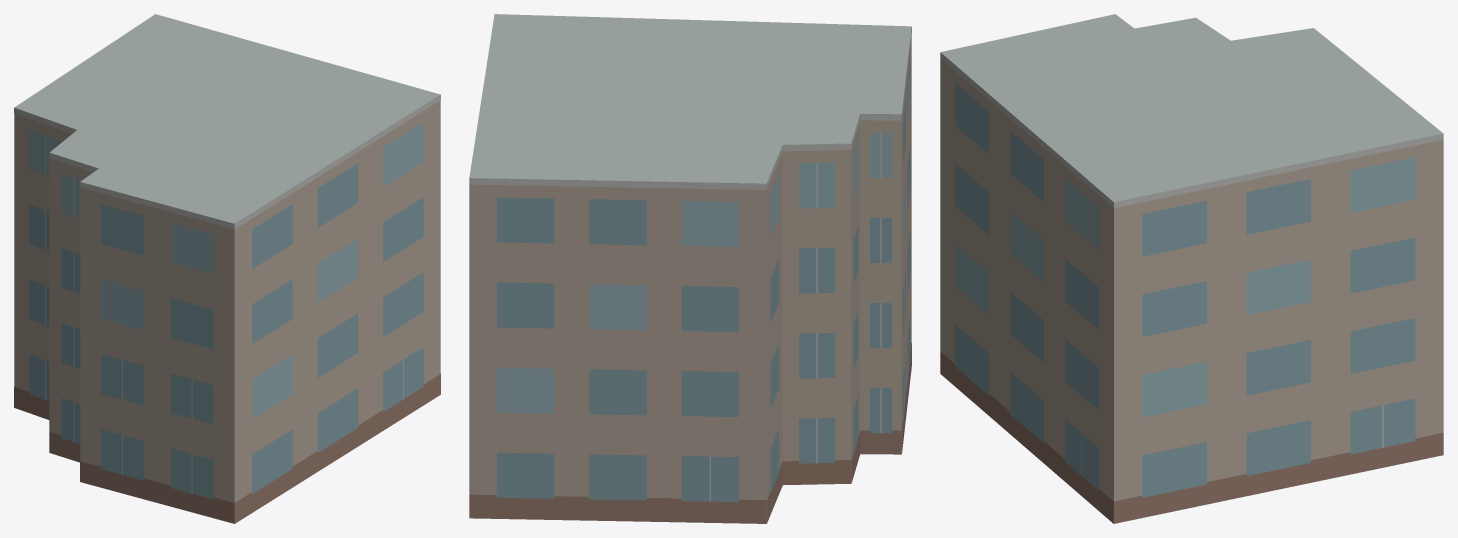
File: survey-upis-32809495.glb
3 views of the same model, side by side, from view 1: azimuth 30°, elevation 25°; view 2: azimuth 150°, elevation 25°; view 3: azimuth 270°, elevation 25° (orthographic). The views are drawn at different scales.
Parts seen in each view (by area): view 1: survey-upis-32809495.tmp; view 2: survey-upis-32809495.tmp; view 3: survey-upis-32809495.tmp.
Boxes of the visible parts, box(x1,y1,x2,y2) form: survey-upis-32809495.tmp: box(14, 14, 440, 523); survey-upis-32809495.tmp: box(469, 14, 911, 523); survey-upis-32809495.tmp: box(940, 14, 1443, 523).
Bounding box in the file's own units: 16.2 × 12.9 × 18.3.
